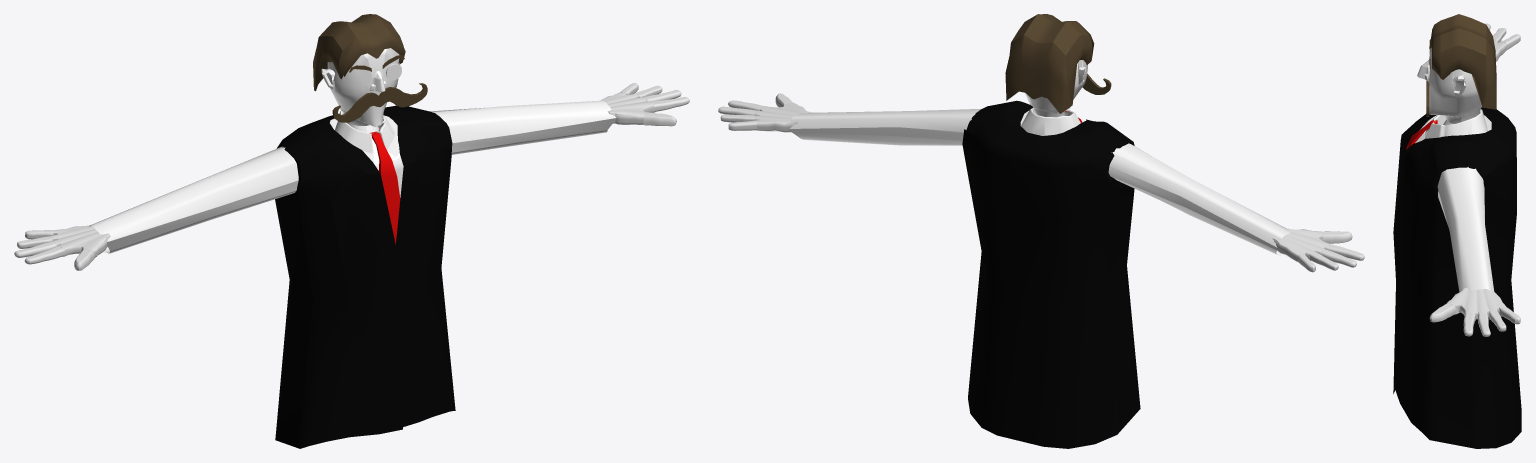
File: Bartender test.fbx
The picture shows the model from 3 angles, left to right: view 1: azimuth 30°, elevation 25°; view 2: azimuth 150°, elevation 25°; view 3: azimuth 270°, elevation 25°; orthographic projection. The views are drawn at different scales.
Visible parts, largest first — view 1: Main_body5, Main_body6, hair, polySurface5 (×2), polySurface17, Tie; view 2: Main_body5, Main_body6, hair, polySurface5 (×2); view 3: Main_body5, Main_body6, hair, polySurface5 (×2), polySurface6 (×2), polySurface16, polySurface9, polySurface8, polySurface7, Tie.
Boxes of the visible parts, x1,y1,x2,y2 form: Main_body5: (275,105,455,448); Main_body6: (89,48,616,253); hair: (313,14,405,91); polySurface5 (×2): (52,92,654,257); polySurface17: (332,83,427,122); Tie: (369,131,400,244); Main_body5: (962,100,1140,448); Main_body6: (789,60,1290,256); hair: (1005,14,1094,113); polySurface5 (×2): (754,102,1330,262); Main_body5: (1393,107,1521,448); Main_body6: (1415,48,1494,292); hair: (1429,14,1496,109); polySurface5 (×2): (1446,40,1507,320); polySurface6 (×2): (1500,34,1520,324); polySurface16: (1429,303,1456,322); polySurface9: (1463,313,1475,336); polySurface8: (1477,312,1490,336); polySurface7: (1489,310,1506,331); Tie: (1406,120,1437,149).
Bounding box in the file's own units: 3.58 × 2.16 × 0.626.
